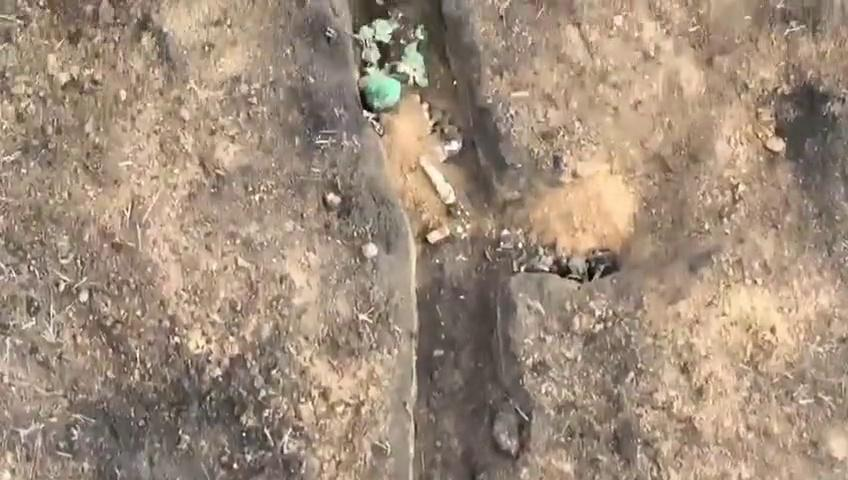trench: (342, 1, 622, 480)
